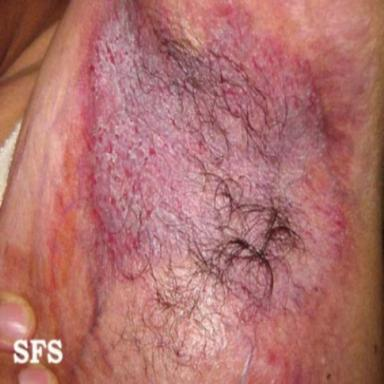Hailey-Hailey-Disease: (67, 2, 356, 324)
